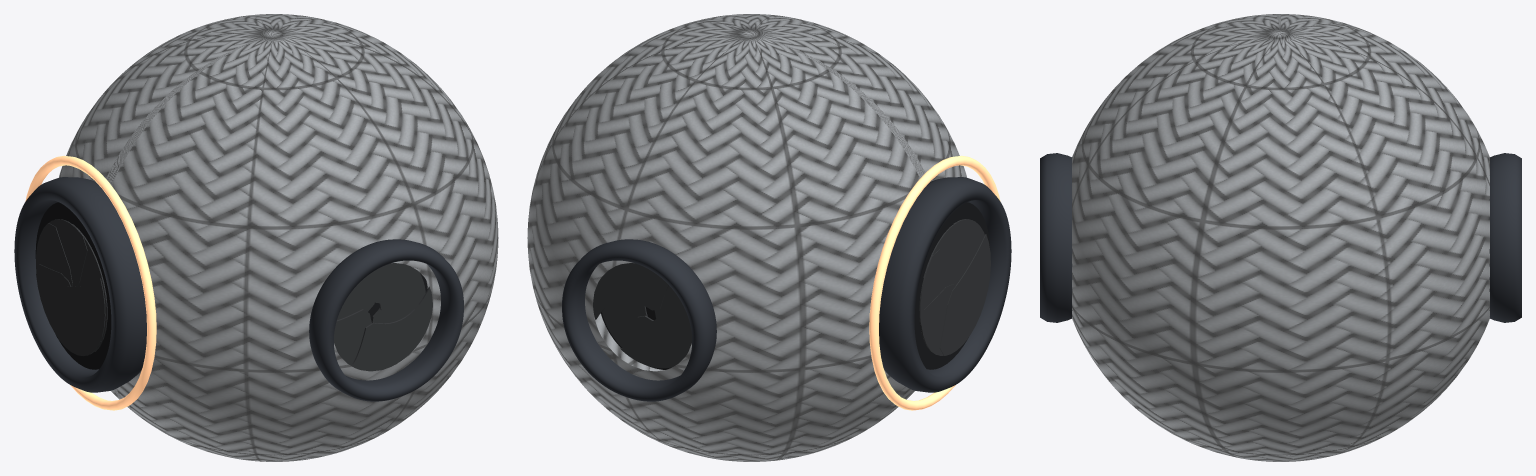
Rendered from mine.glb.
The picture shows the model from 3 angles, left to right: view 1: azimuth 30°, elevation 25°; view 2: azimuth 150°, elevation 25°; view 3: azimuth 270°, elevation 25°; orthographic projection.
Visible parts, largest first — view 1: MineBody, MineBoreCuff, MineStarboardCuff, MineBoreAccent, MineStarboardIris.005, MineBoreIris.005, MineBoreThroat, MineStarboardIris.001, MineStarboardIris.004, MineBoreIris.002, MineBoreIris.003, MineBoreIris.004 (+4 smaller); view 2: MineBody, MineBoreCuff, MinePortCuff, MineBoreAccent, MineBoreIris.005, MinePortIris.005, MineBoreThroat, MinePortIris.002, MineBoreIris.002, MinePortIris.001, MineBoreIris.003, MineBoreIris.004 (+3 smaller); view 3: MineBody, MinePortCuff, MineStarboardCuff.
Boxes of the visible parts, left/top/right/bottom form: MineBody: left=59, top=14, right=498, bottom=461; MineBoreCuff: left=14, top=177, right=146, bottom=392; MineStarboardCuff: left=309, top=239, right=463, bottom=401; MineBoreAccent: left=25, top=155, right=156, bottom=410; MineStarboardIris.005: left=351, top=286, right=432, bottom=371; MineBoreIris.005: left=54, top=278, right=105, bottom=355; MineBoreThroat: left=35, top=202, right=111, bottom=369; MineStarboardIris.001: left=379, top=263, right=425, bottom=314; MineStarboardIris.004: left=334, top=309, right=371, bottom=365; MineBoreIris.002: left=49, top=219, right=87, bottom=286; MineBoreIris.003: left=36, top=223, right=72, bottom=286; MineBoreIris.004: left=36, top=264, right=100, bottom=355; MineBody: left=527, top=14, right=966, bottom=461; MineBoreCuff: left=879, top=177, right=1011, bottom=392; MinePortCuff: left=562, top=239, right=716, bottom=401; MineBoreAccent: left=869, top=155, right=1000, bottom=410; MineBoreIris.005: left=939, top=234, right=990, bottom=355; MinePortIris.005: left=593, top=263, right=668, bottom=319; MineBoreThroat: left=914, top=202, right=989, bottom=369; MinePortIris.002: left=620, top=315, right=671, bottom=368; MineBoreIris.002: left=919, top=219, right=970, bottom=341; MinePortIris.001: left=602, top=300, right=647, bottom=347; MineBoreIris.003: left=919, top=249, right=956, bottom=354; MineBoreIris.004: left=920, top=284, right=955, bottom=355; MineBody: left=1072, top=14, right=1489, bottom=461; MinePortCuff: left=1489, top=153, right=1521, bottom=322; MineStarboardCuff: left=1040, top=153, right=1072, bottom=322.
Bounding box in the file's own units: 2.08 × 2 × 2.15.
Materials: 5 (1 with a texture image).
